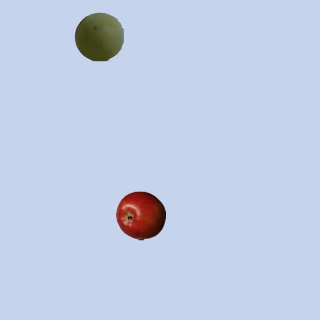Apple Braeburn: (115, 190, 165, 240)
Grape White 4: (73, 11, 123, 61)
